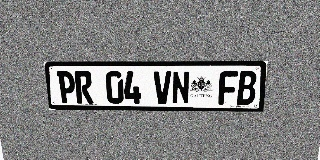0: (105, 71, 124, 104)
4: (123, 71, 141, 104)
B: (237, 71, 257, 105)
F: (218, 71, 238, 105)
N: (172, 71, 190, 104)
P: (57, 71, 76, 103)
R: (74, 71, 94, 104)
V: (153, 71, 171, 104)
